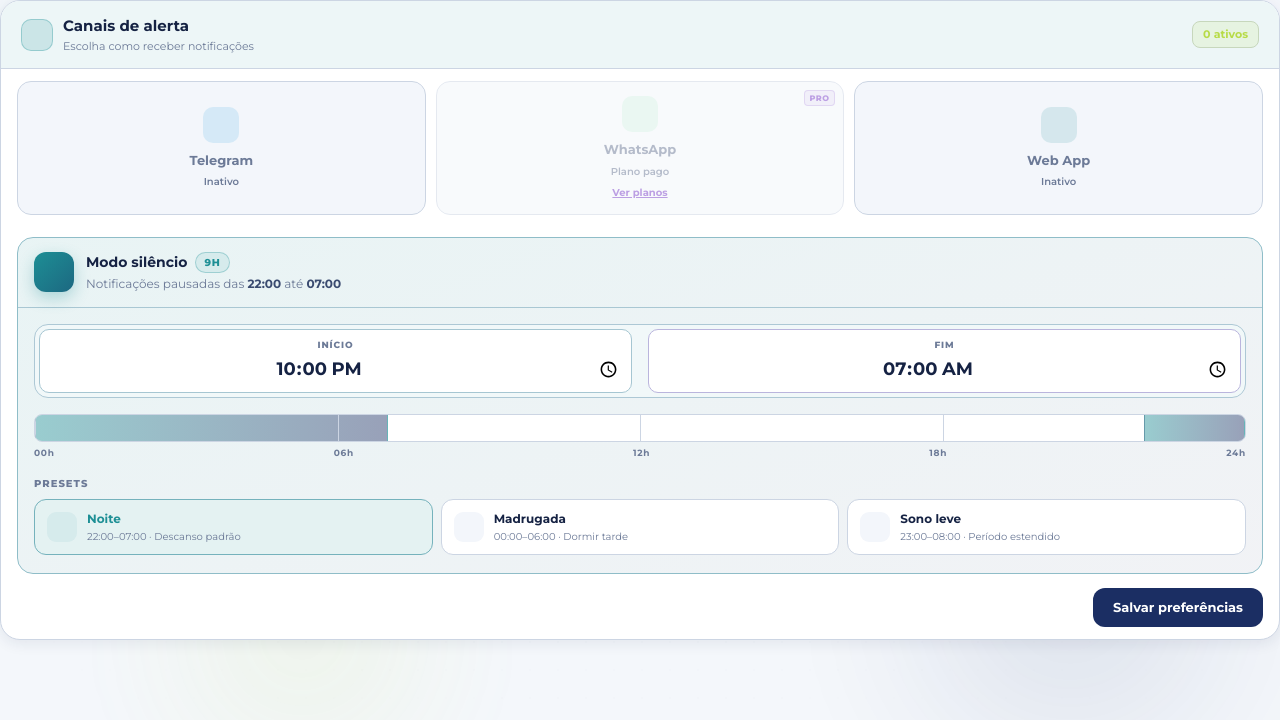
Test: ChannelConfig › applies preset silence times when a preset button is clicked
Click the button "23:00–08:00": (1047, 526) [847, 498, 1246, 554]
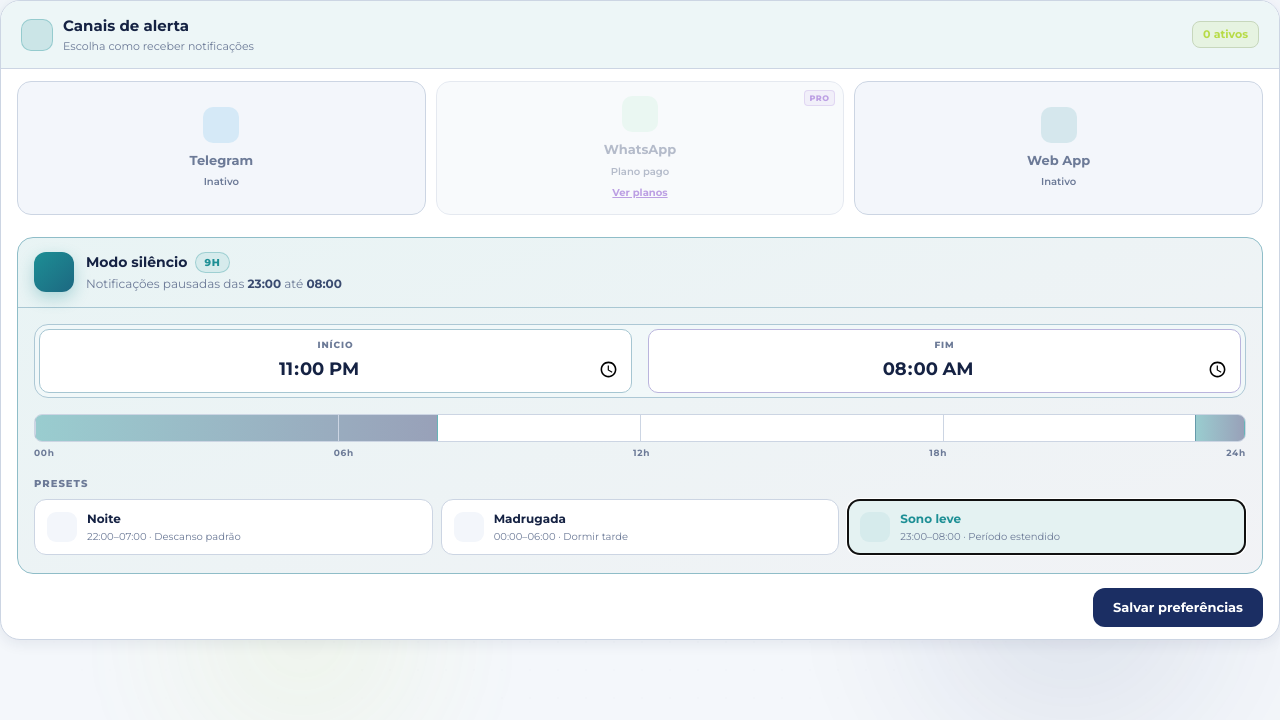
Expected: the time field named "início do silêncio" holds "23:00", [50, 355, 621, 384]
Expected: the time field named "fim do silêncio" holds "08:00", [659, 355, 1230, 384]
